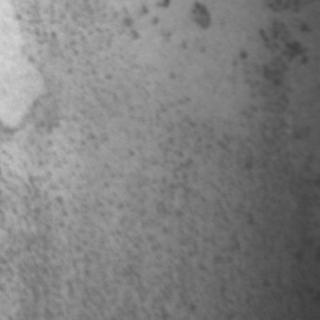pitted_surface: (120, 12, 308, 312), (0, 2, 140, 314)
